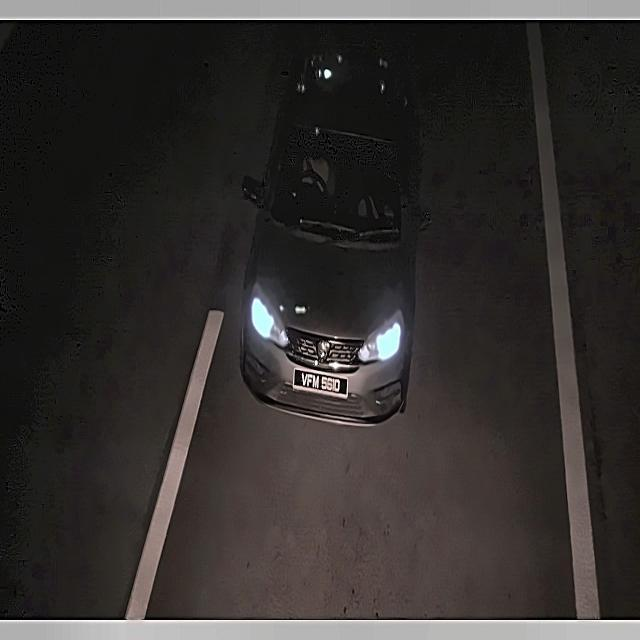car: (288, 361, 356, 402)
